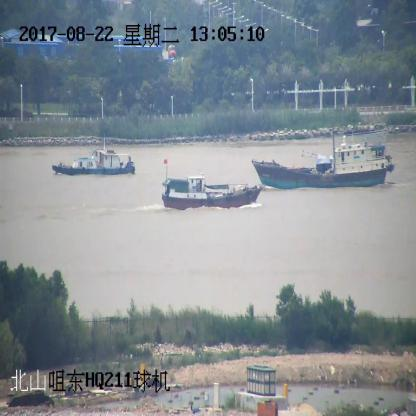Fishing Boat: (253, 126, 393, 190), (162, 160, 261, 210), (53, 138, 136, 177)
